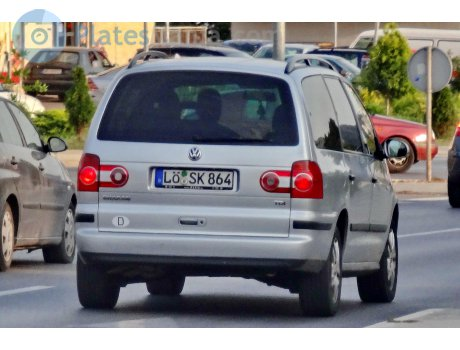License Plates: (159, 169, 239, 189)
